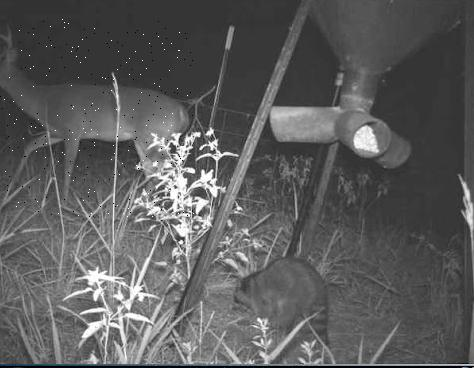Deer: (0, 19, 194, 217)
